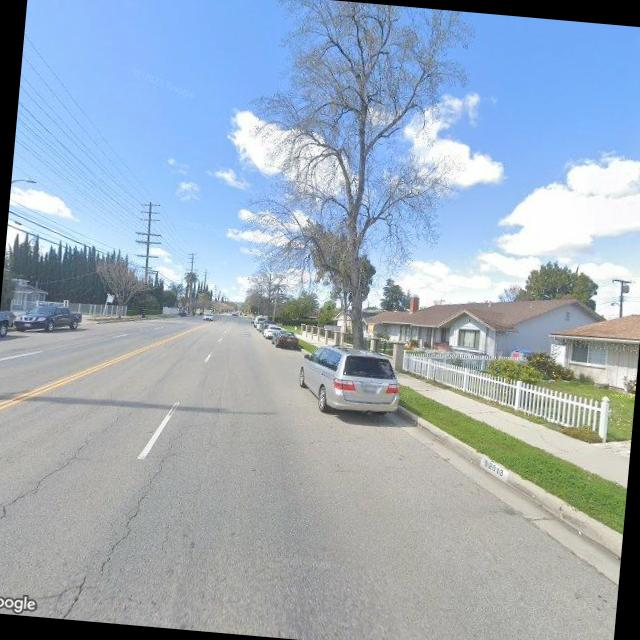pothole: (54, 416, 182, 622), (0, 390, 123, 541)
